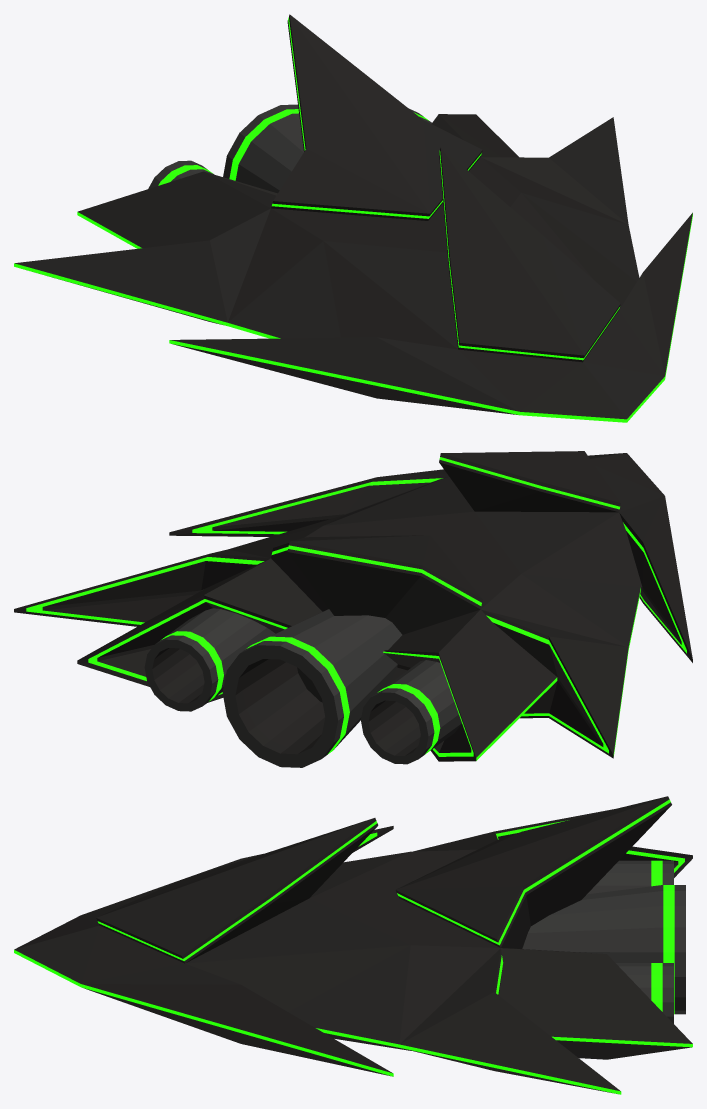
The model's file is EdgeHarbinger.fbx.
3 views of the same model, one above another, from view 1: azimuth 30°, elevation 25°; view 2: azimuth 150°, elevation 25°; view 3: azimuth 270°, elevation 25° (orthographic). The views are drawn at different scales.
Visible parts, largest first — view 1: EdgeHarbinger; view 2: EdgeHarbinger; view 3: EdgeHarbinger.
Part boxes in pixels (left/top/right/bottom): EdgeHarbinger: left=14, top=14, right=692, bottom=422; EdgeHarbinger: left=14, top=451, right=692, bottom=767; EdgeHarbinger: left=14, top=796, right=692, bottom=1094.
Size of the model in its own units: 576 by 203 by 582.
